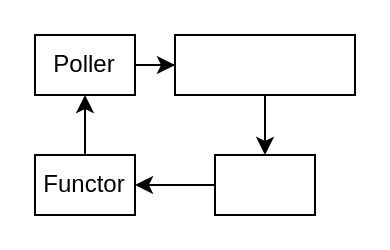
Some shapes in this 390 by 250 pixel diagram are drawn without their labels. The box of each missing label's shape, as (x1, y1, x2, y2) in pixels:
EventHandle: (173, 33, 355, 95)
Timer: (213, 153, 315, 215)
